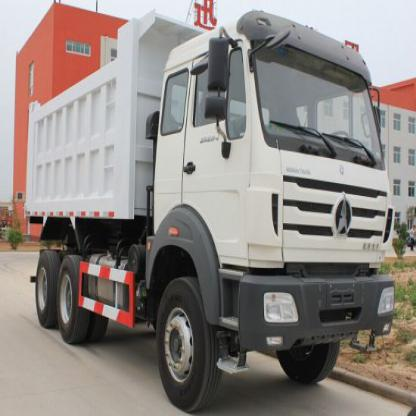normal-truck: (30, 13, 409, 394)
